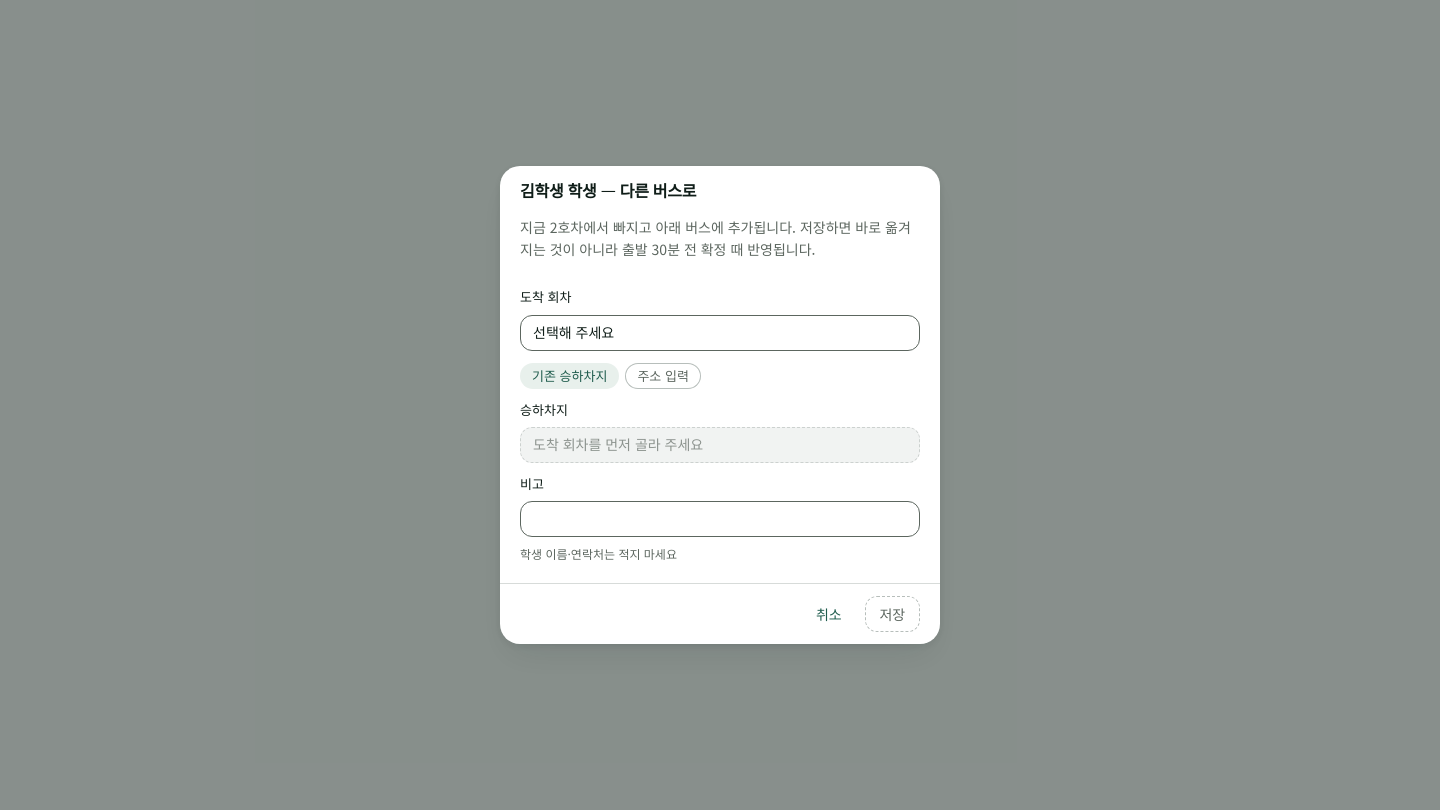
it: StudentTransferDialog — 배타 입력·대기 저장·에러 › 409 CAPACITY_EXCEEDED 는 쉬운 문구로 보여 주고 영문 코드는 화면에 내지 않는다
The width and height of the screenshot is (1440, 810).
Select "3호차 · 08:10 출발" in the dropdown labelled "도착 회차" at (720, 332), box [520,314,920,350]
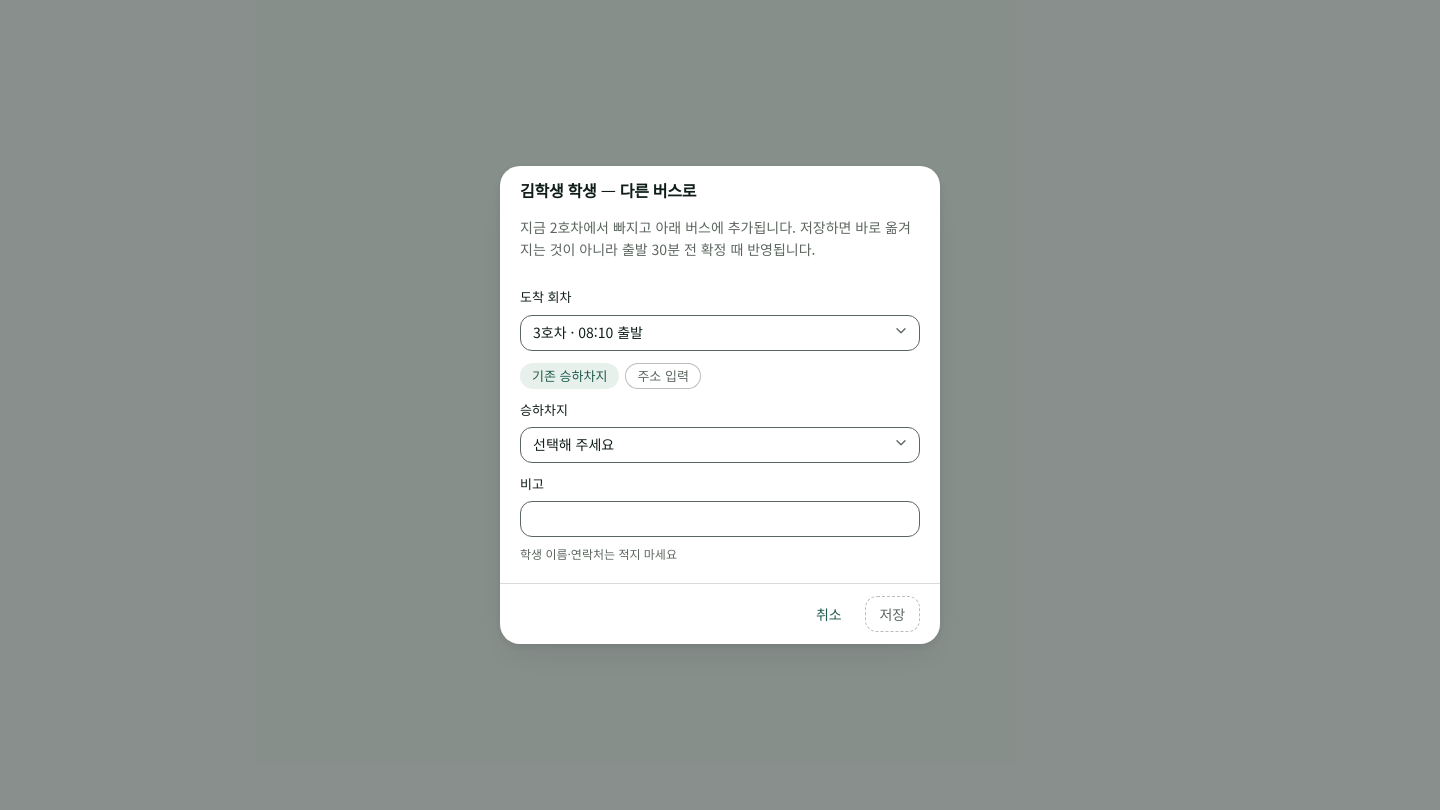
Select "후문" in the dropdown labelled "승하차지" at (720, 445), box [520,427,920,463]
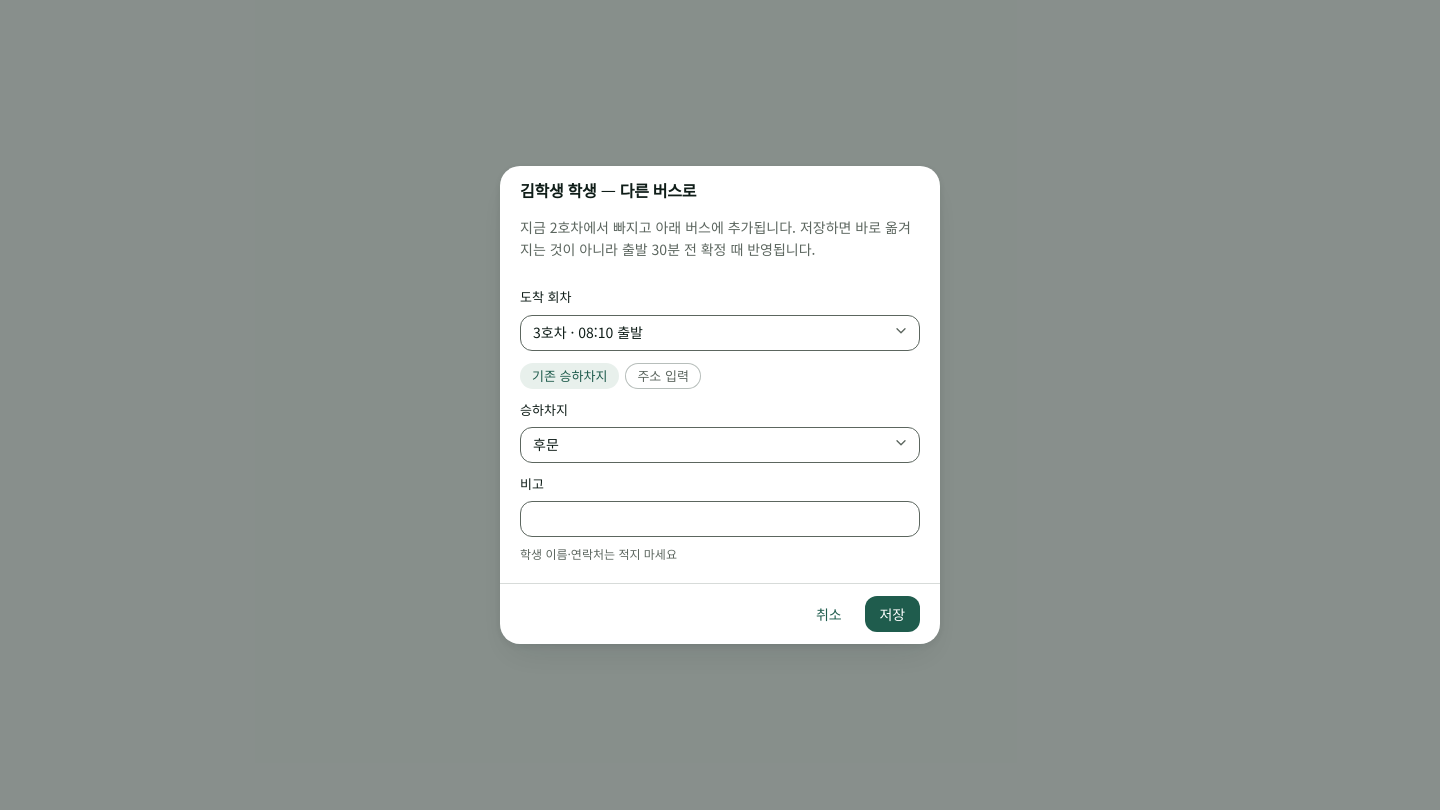
Click the button "저장".
click(892, 614)  # box [864,596,920,632]
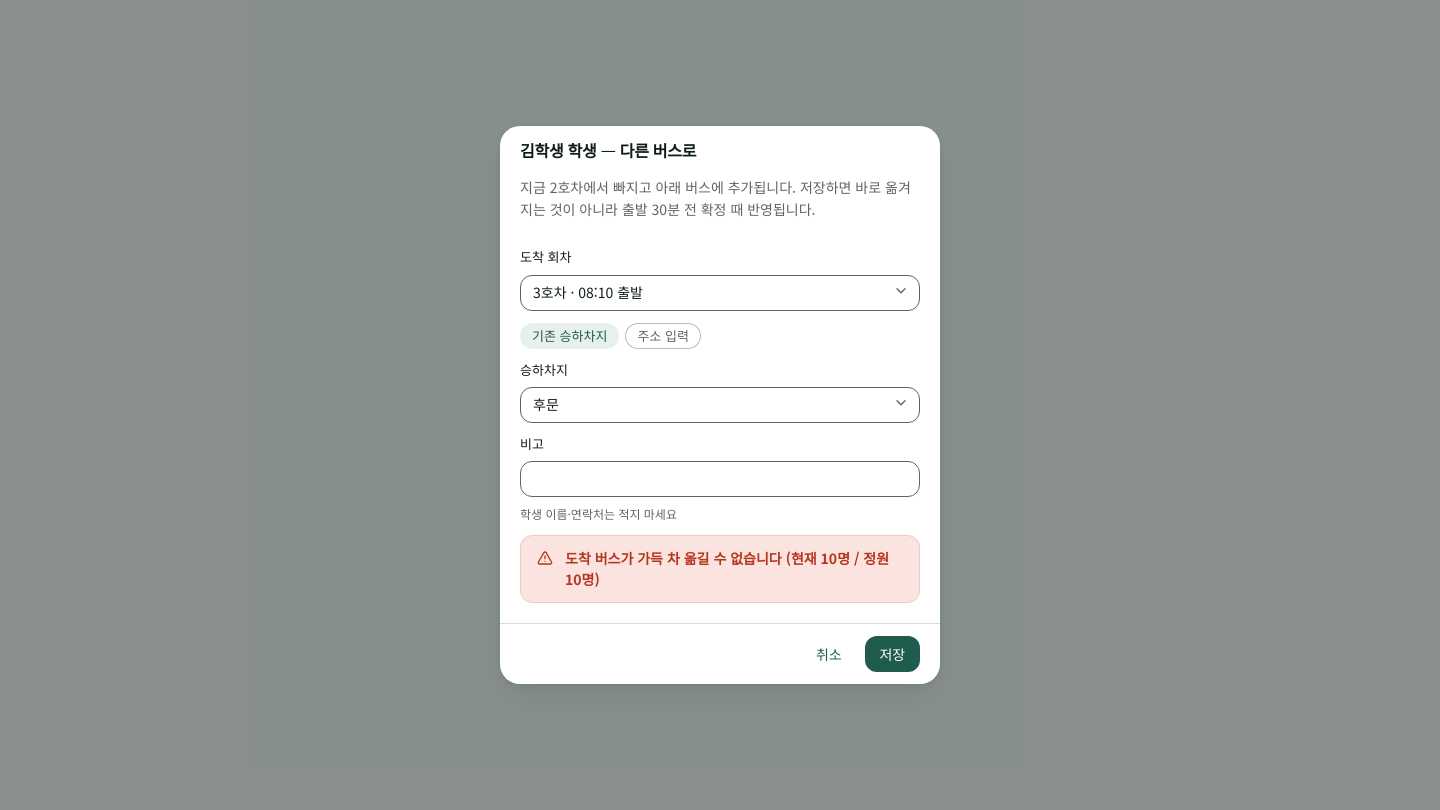
Check: the text "도착 버스가 가득 차 옮길 수 없습니다 (현재 10명 / 정원 10명)" is shown, box [565,548,903,590]
